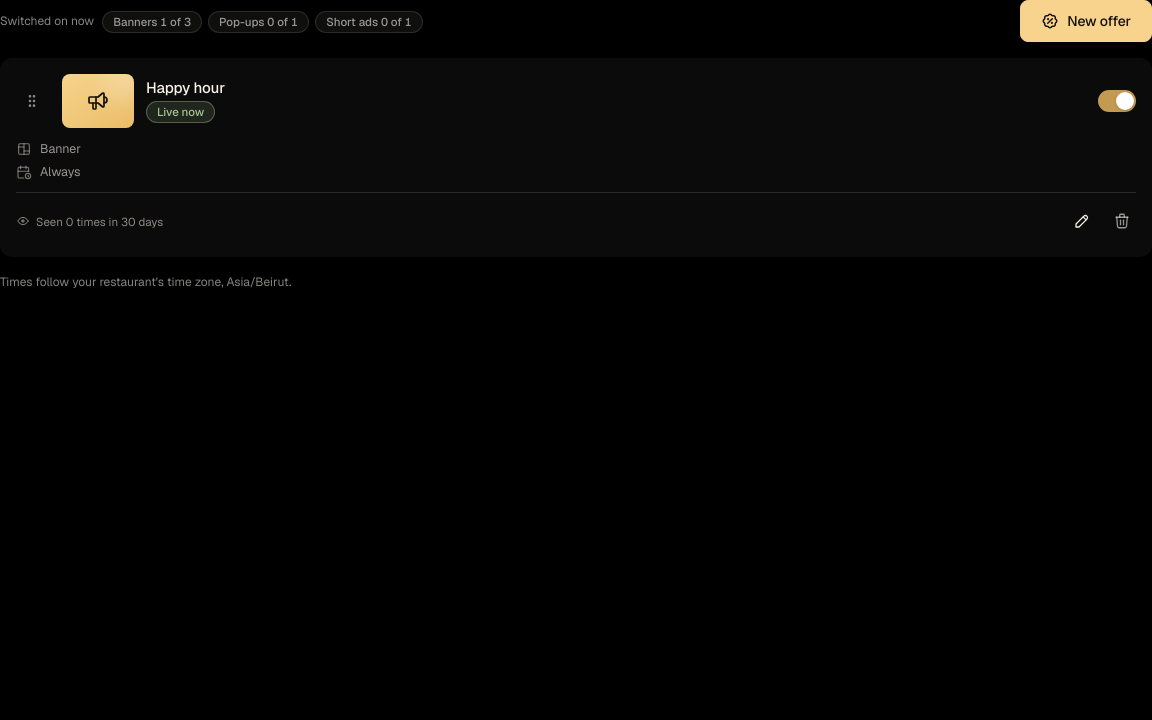
Test: OffersPage › says a delete failed
Click the button named "Delete Happy hour". click: (1122, 221)
box: [1102,201,1142,241]
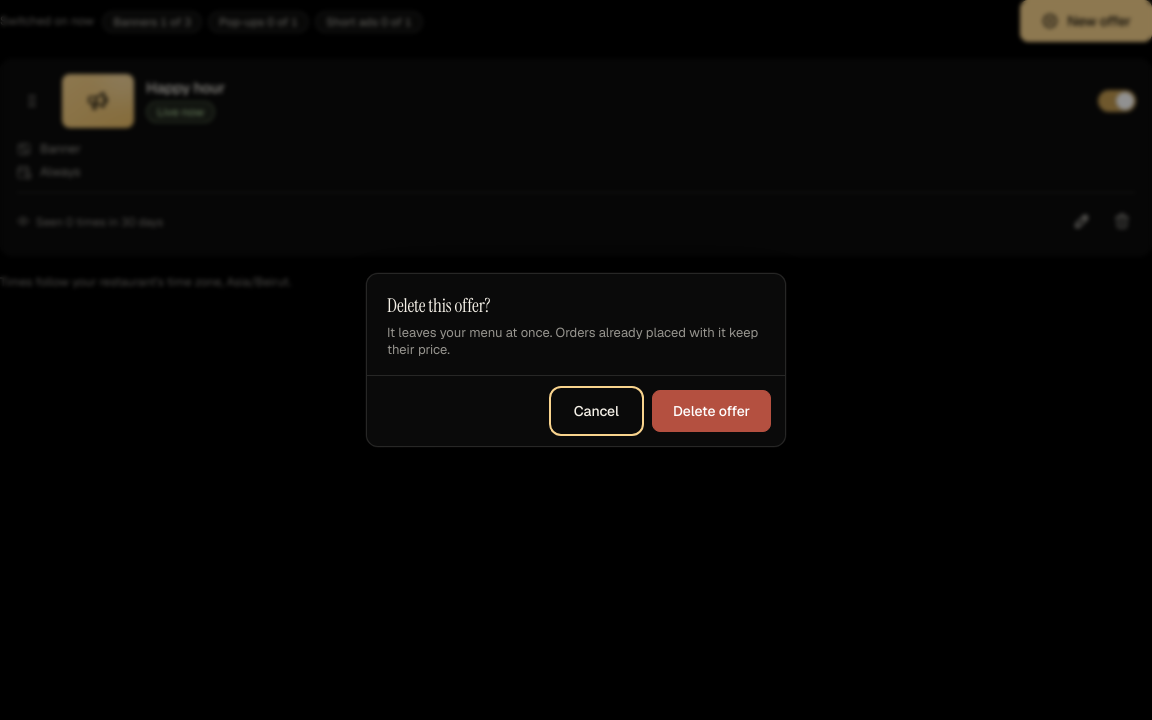
Click the button "Delete offer". click: (711, 411)
box: [652,390,771,432]
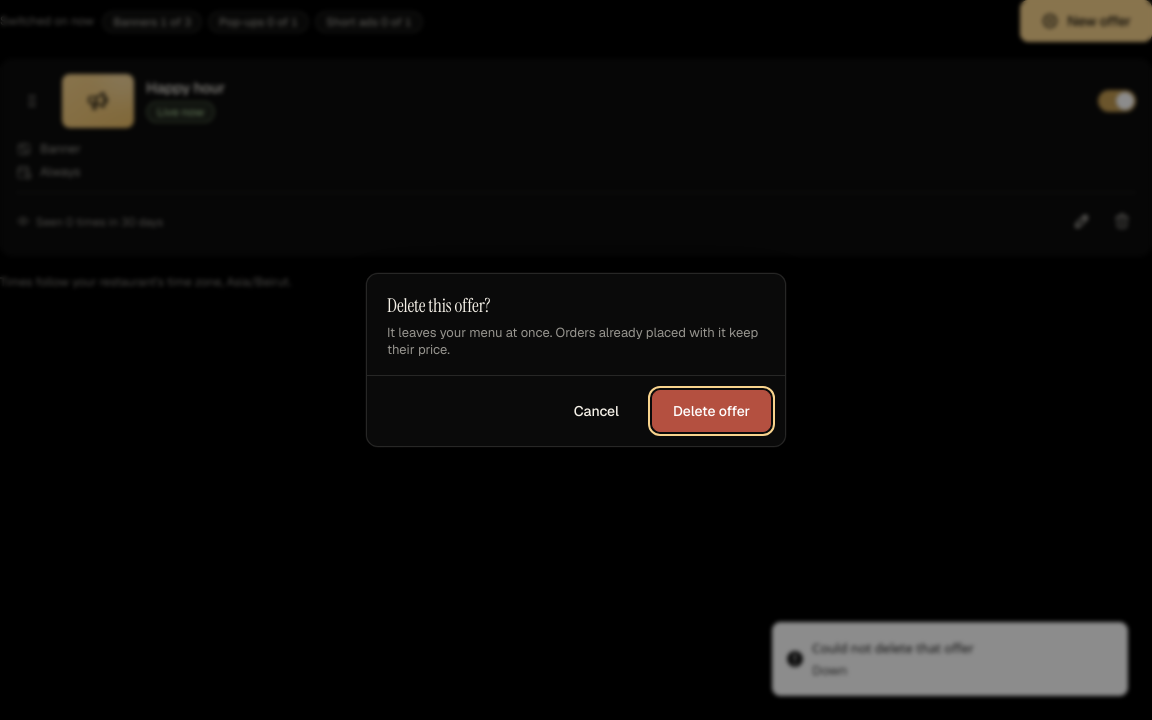
Check: the text "Could not delete that offer" is shown, box [812,639,974,659]
